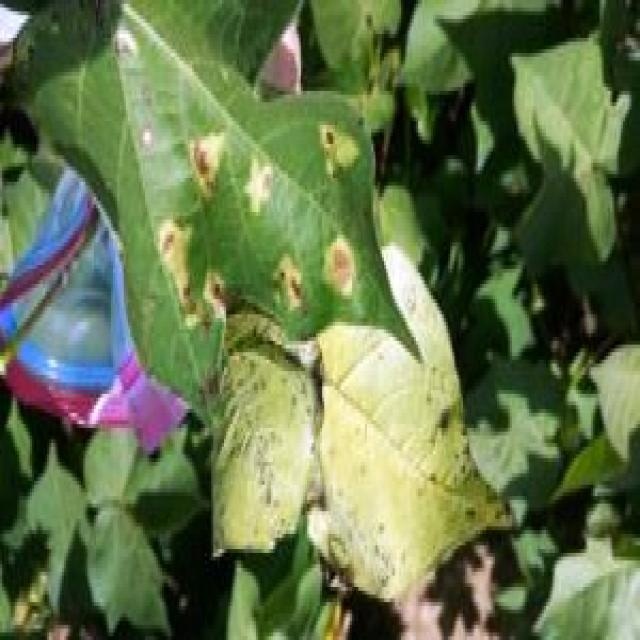Bacterial Blight: (144, 95, 361, 339)
